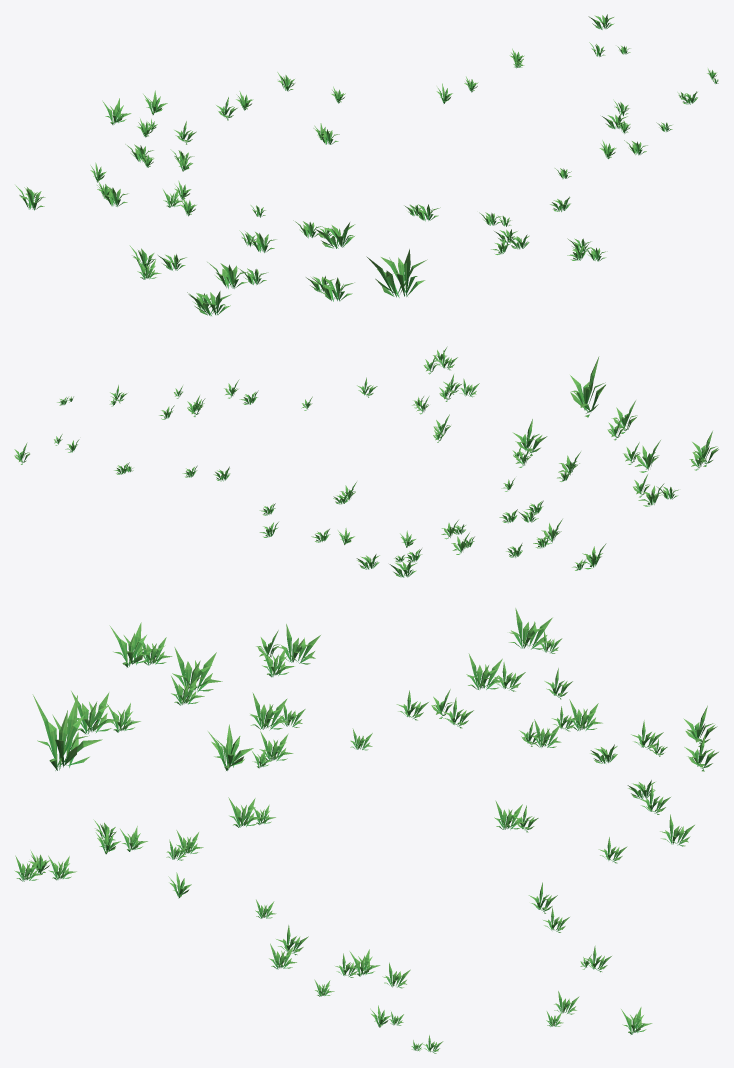
Rendered from Area_04_3.fbx.
3 views of the same model, one above another, from view 1: azimuth 30°, elevation 25°; view 2: azimuth 150°, elevation 25°; view 3: azimuth 270°, elevation 25° (orthographic). The views are drawn at different scales.
Visible parts, largest first — view 1: Area_04_3; view 2: Area_04_3; view 3: Area_04_3.
Boxes of the visible parts, bbox=[...] form: Area_04_3: bbox=[15, 14, 718, 315]; Area_04_3: bbox=[14, 346, 718, 577]; Area_04_3: bbox=[14, 608, 718, 1053].
Size of the model in its own units: 3534 by 294 by 2535.
